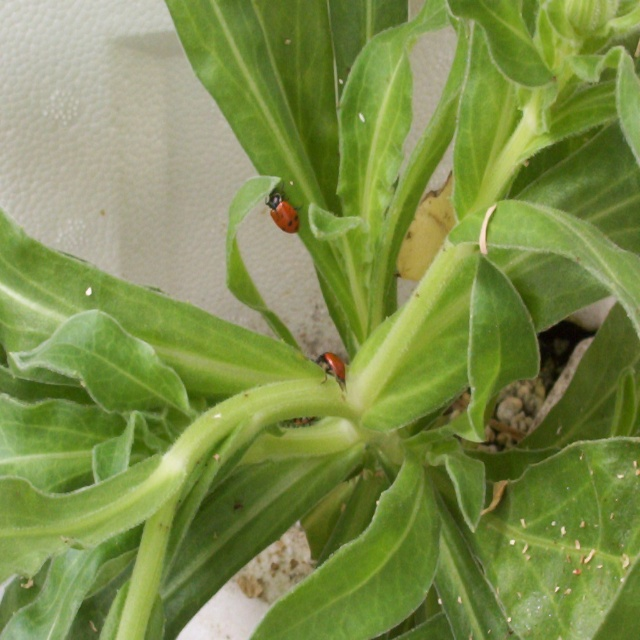Ladybug: (265, 182, 303, 234), (312, 352, 348, 390)
